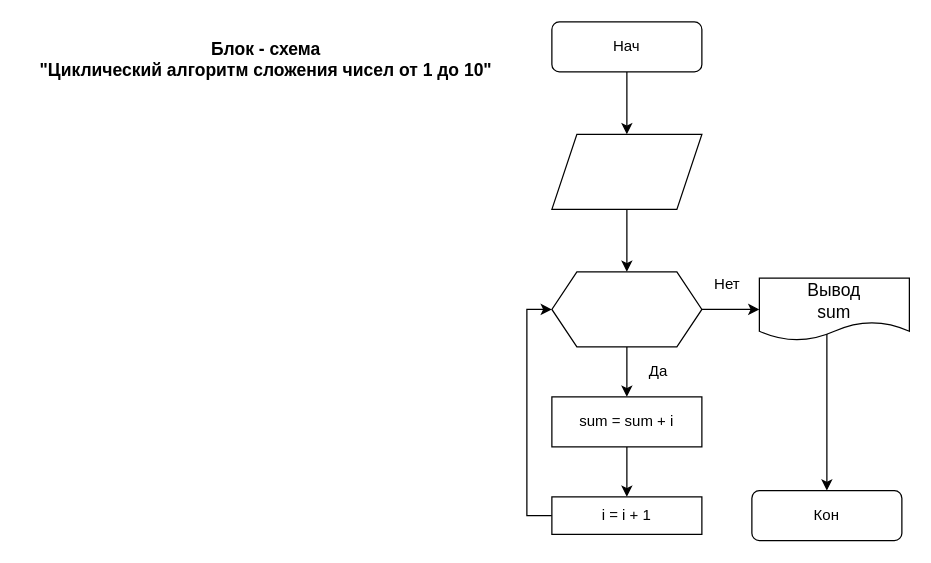
Image size: 931x563. Some labels were removed from this diagram. Each missing label, with the centre of its shape:
"i <= 10" goes at pixel 626 309.
"i = 1, sum = 0" goes at pixel 626 171.
